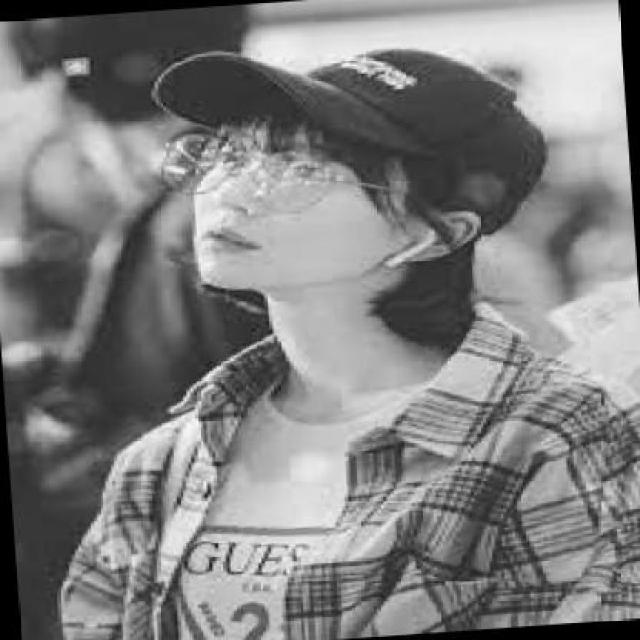earphone: (369, 214, 448, 292)
